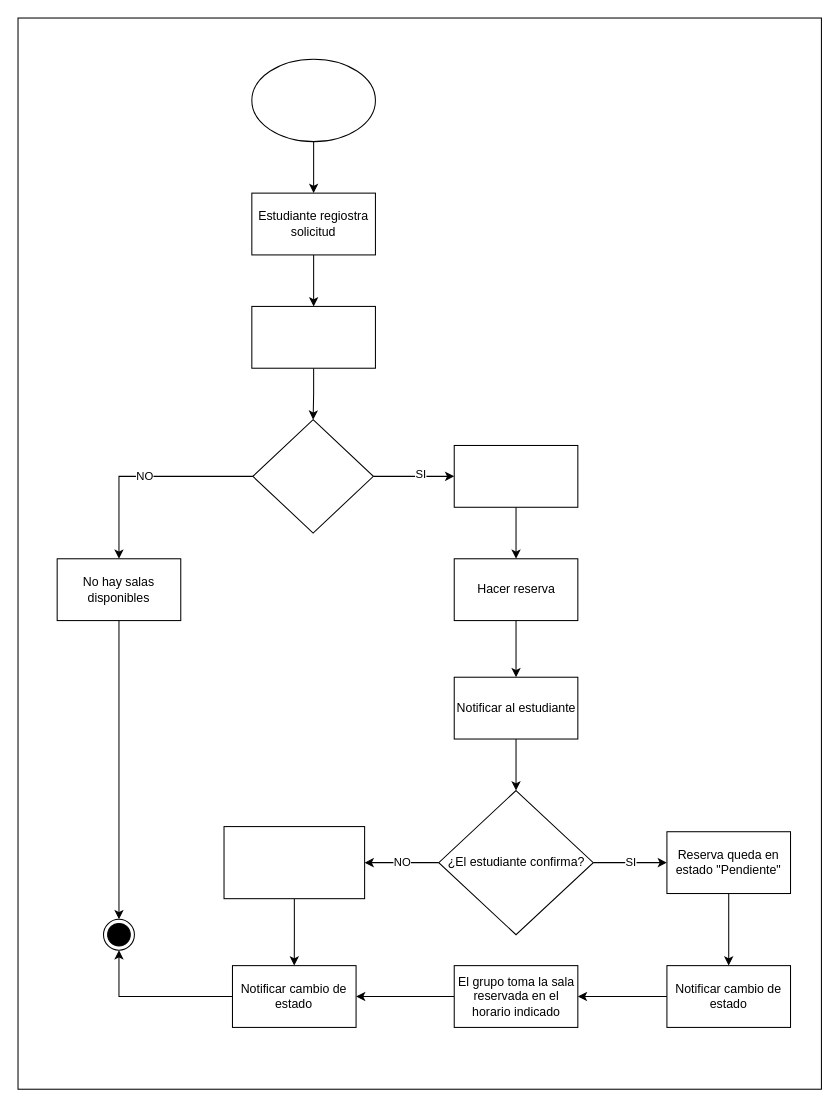
Image size: 839x1107. Some labels were removed from this diagram. Each missing label, with the centre of its shape:
"INICIO" belongs at [313,100].
"Se cancela la reserva y se libera la sala" belongs at [294,862].
"Seleccionar sala" belongs at [515,475].
"Ver si hay sala disponible" belongs at [313,336].
"¿Hay sala disponible?" belongs at [312,476].
